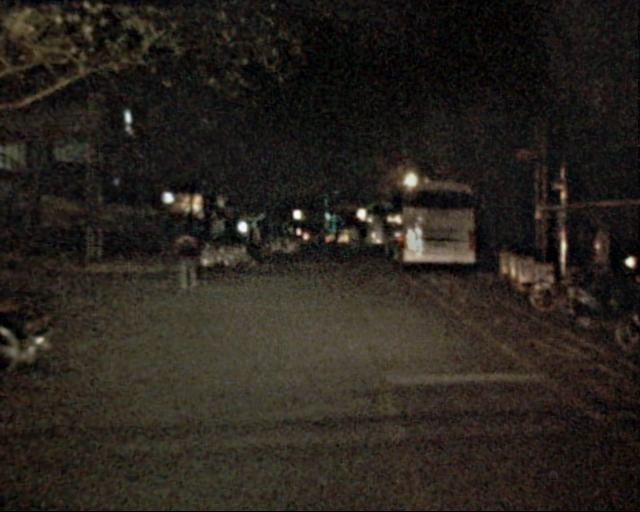person: (172, 218, 200, 286), (238, 219, 257, 266), (348, 225, 367, 253)
